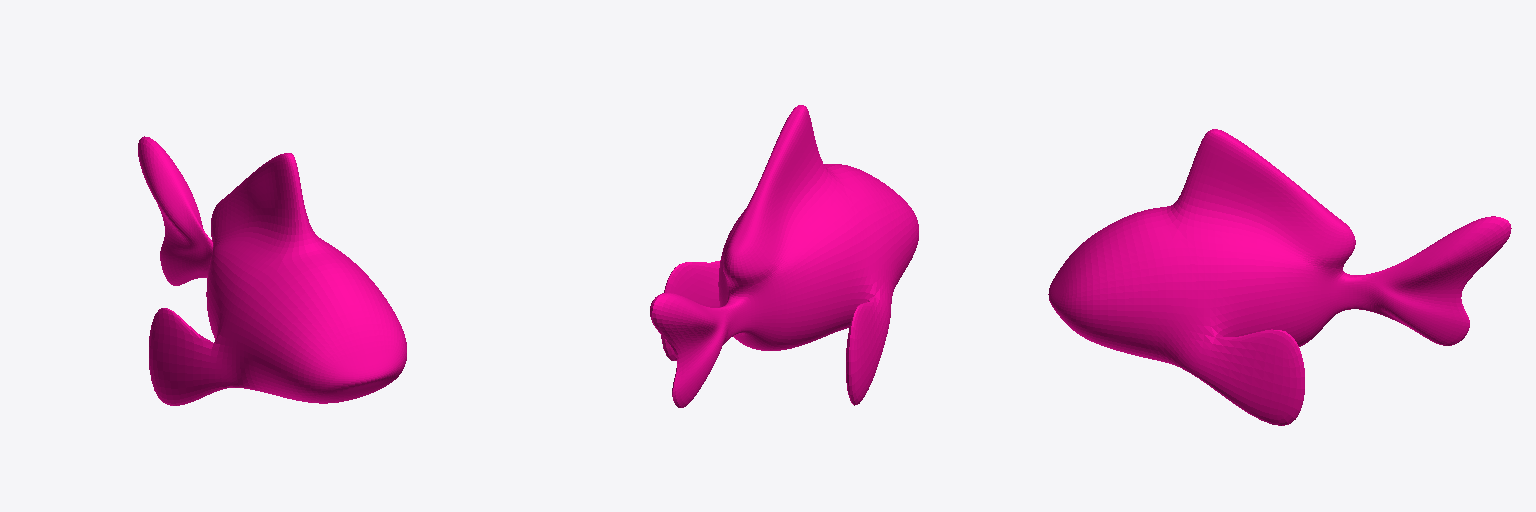
The model's file is blub.obj.
The picture shows the model from 3 angles: view 1: azimuth 30°, elevation 25°; view 2: azimuth 150°, elevation 25°; view 3: azimuth 270°, elevation 25°; orthographic projection.
Bounding box in the file's own units: 1.42 × 1.75 × 2.91.